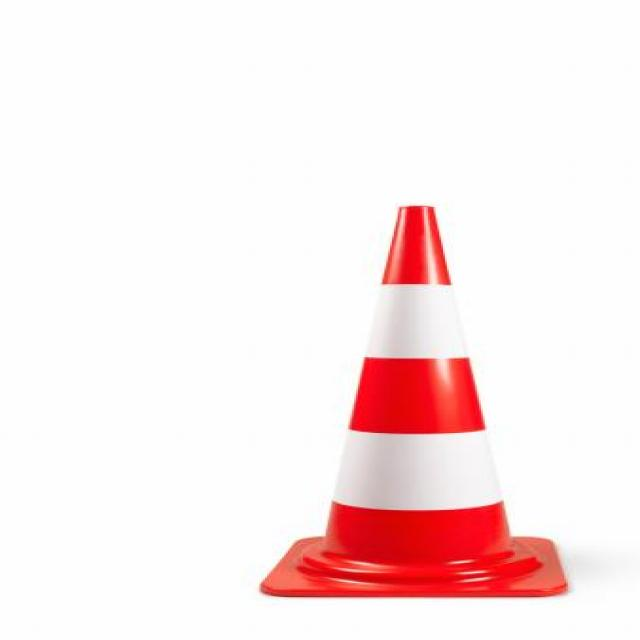Cone: (256, 202, 580, 597)
